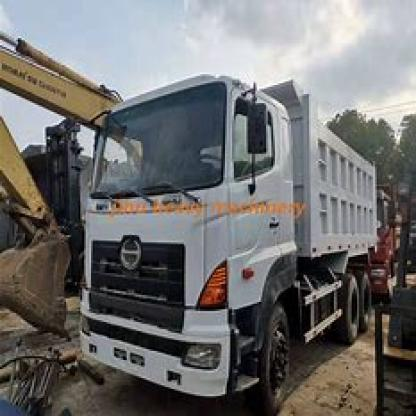dump_truck: (59, 81, 348, 406)
